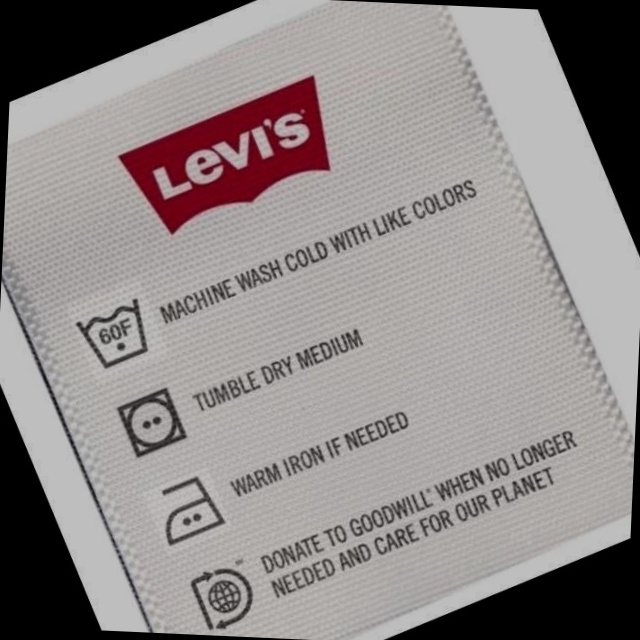30C: (77, 291, 153, 371)
iron_medium: (153, 470, 231, 548)
tumble_dry_medium: (116, 383, 193, 459)
